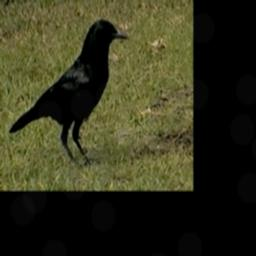Crow: (8, 19, 129, 168)
